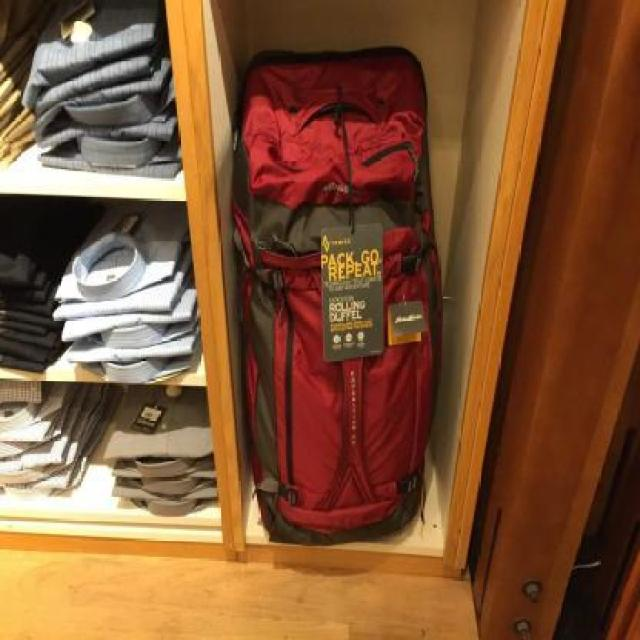backpack: (226, 41, 448, 552)
